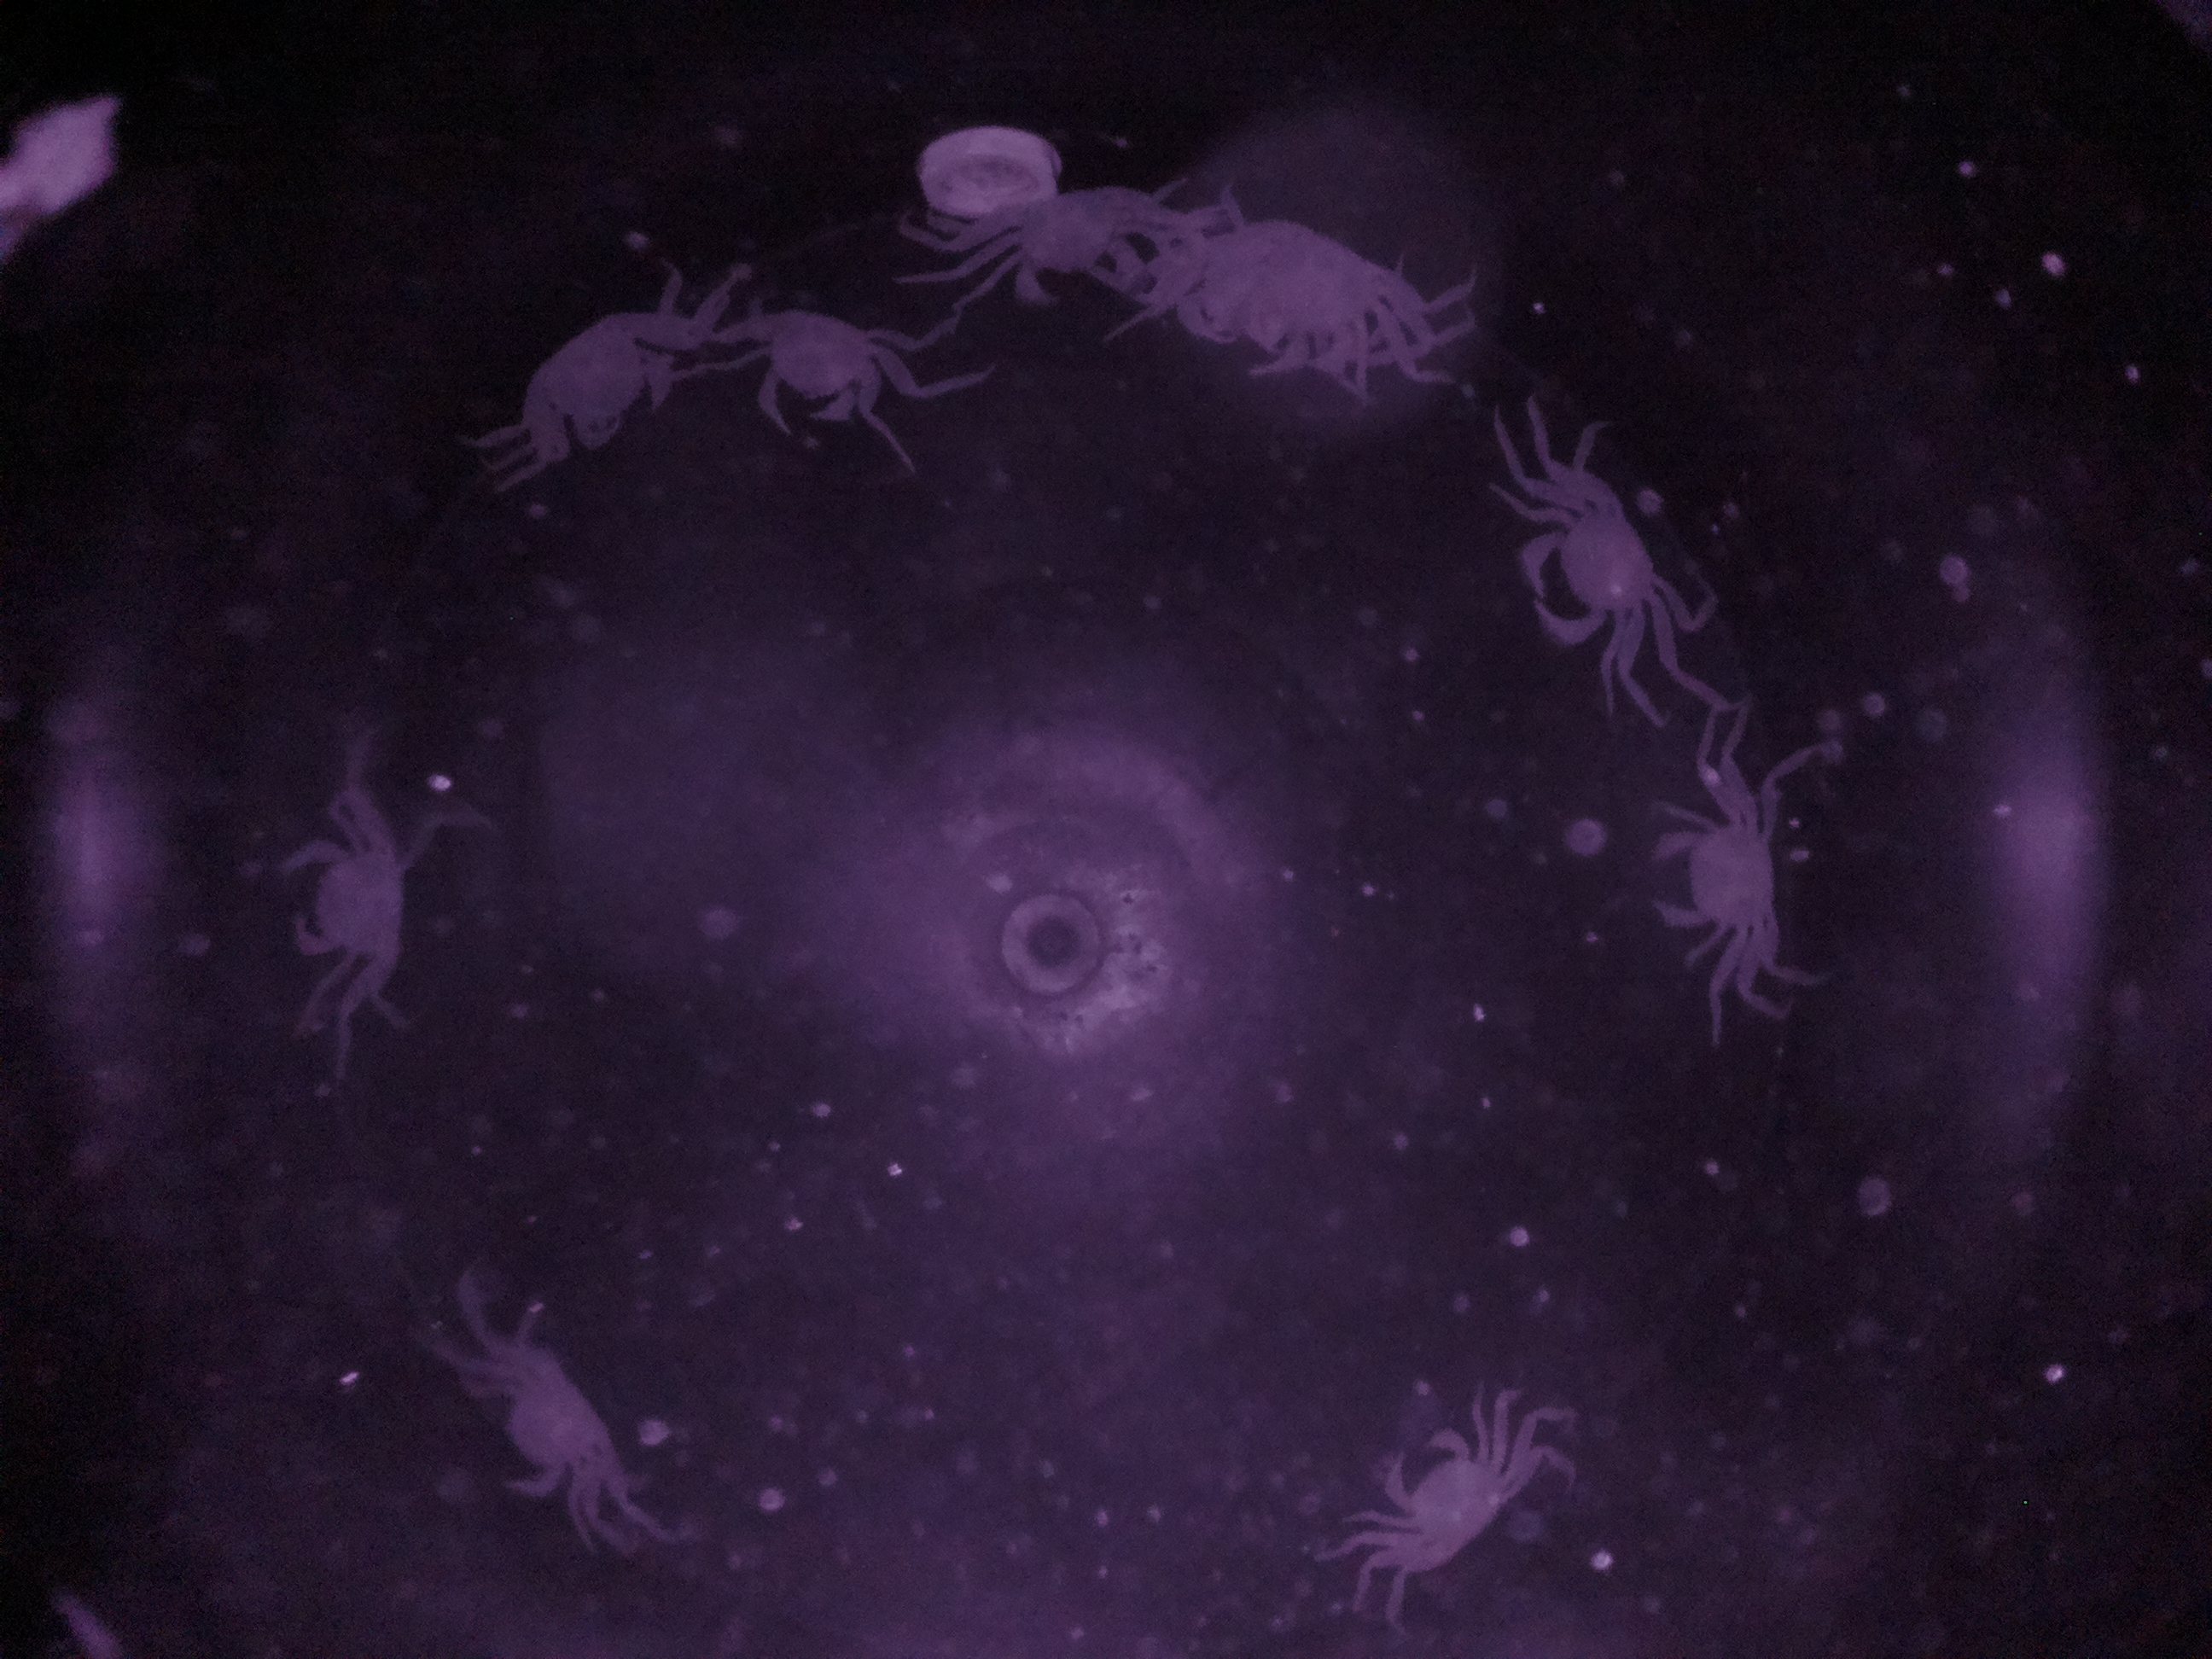Crab: (1507, 462, 1693, 685), (1338, 1396, 1548, 1582), (712, 279, 925, 455), (449, 1321, 637, 1520), (510, 277, 695, 476), (1630, 775, 1806, 971), (266, 793, 418, 995)
